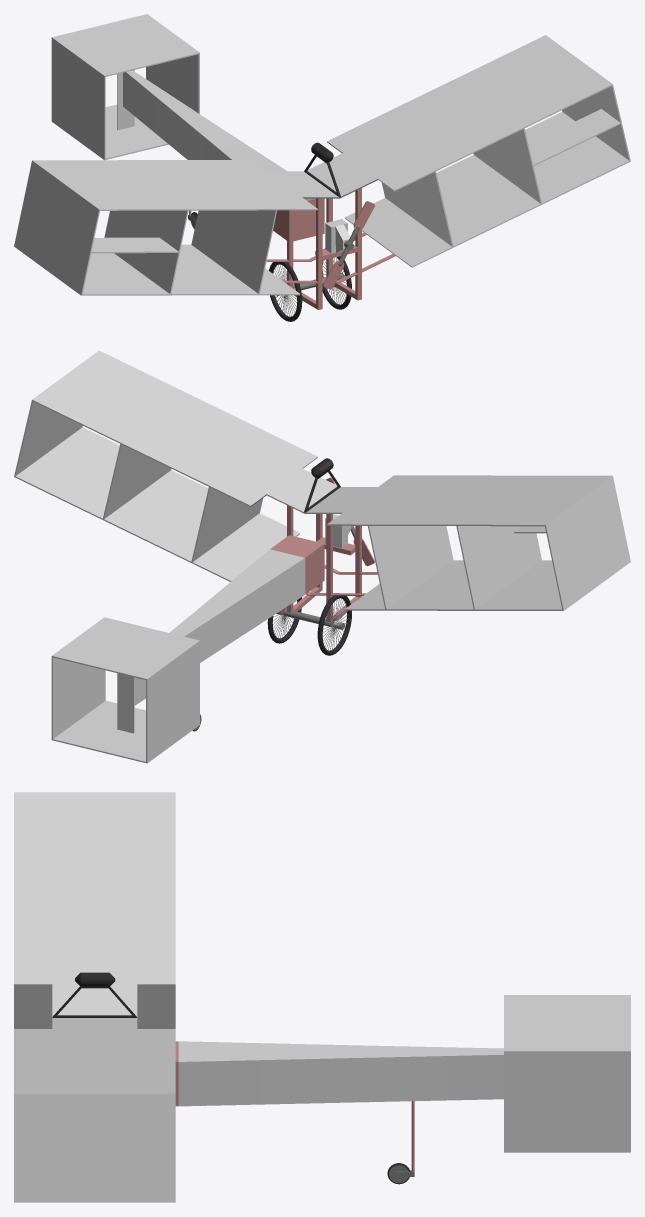
File: 14bis.glb
3 views of the same model, one above another, from view 1: azimuth 30°, elevation 25°; view 2: azimuth 150°, elevation 25°; view 3: azimuth 270°, elevation 25° (orthographic). The views are drawn at different scales.
Parts seen in each view (by area): view 1: Modelagem 14Bis; view 2: Modelagem 14Bis; view 3: Modelagem 14Bis.
Boxes of the visible parts, box(x1,y1,x2,y2) form: Modelagem 14Bis: box(14, 14, 630, 321); Modelagem 14Bis: box(14, 350, 630, 763); Modelagem 14Bis: box(14, 792, 630, 1202).
Bounding box in the file's own units: 0.521 × 0.1815 × 0.4211.
